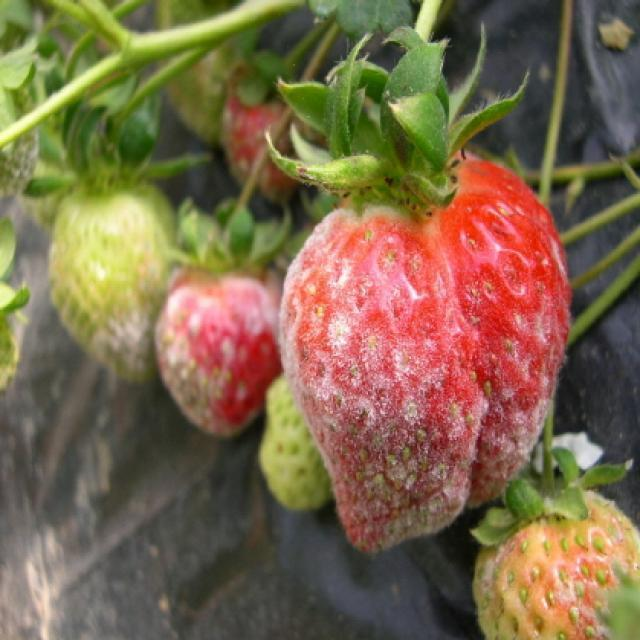Powdery Mildew Fruit: (268, 140, 573, 557), (50, 177, 182, 382), (472, 480, 638, 638), (152, 266, 283, 438), (219, 48, 339, 203), (0, 59, 41, 197)
